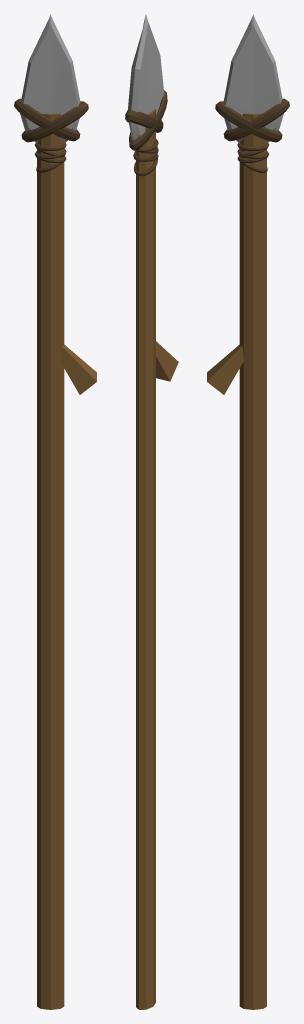
File: Spear.fbx
3 views of the same model, side by side, from view 1: azimuth 90°, elevation 25°; view 2: azimuth 150°, elevation 25°; view 3: azimuth 270°, elevation 25° (orthographic).
Parts seen in each view (by area): view 1: pCylinder1, pCube1, pCube2, pasted__pTorus1, pTorus1; view 2: pCylinder1, pCube1, pCube2, pasted__pTorus1, pTorus1; view 3: pCylinder1, pCube1, pCube2, pasted__pTorus1, pTorus1.
Part boxes in pixels (box(x1,y1,x2,y2)): pCylinder1: box(37, 113, 64, 1009); pCube1: box(20, 14, 80, 143); pCube2: box(60, 344, 96, 394); pasted__pTorus1: box(21, 101, 88, 142); pTorus1: box(14, 98, 80, 141); pCylinder1: box(136, 108, 155, 1009); pCube1: box(128, 14, 164, 139); pCube2: box(156, 341, 178, 381); pasted__pTorus1: box(129, 90, 167, 150); pTorus1: box(125, 109, 163, 132); pCylinder1: box(239, 113, 266, 1009); pCube1: box(223, 14, 283, 143); pCube2: box(207, 344, 243, 394); pasted__pTorus1: box(215, 101, 282, 142); pTorus1: box(223, 98, 289, 141).
Bounding box in the file's own units: 0.4191 × 20.03 × 1.52.
